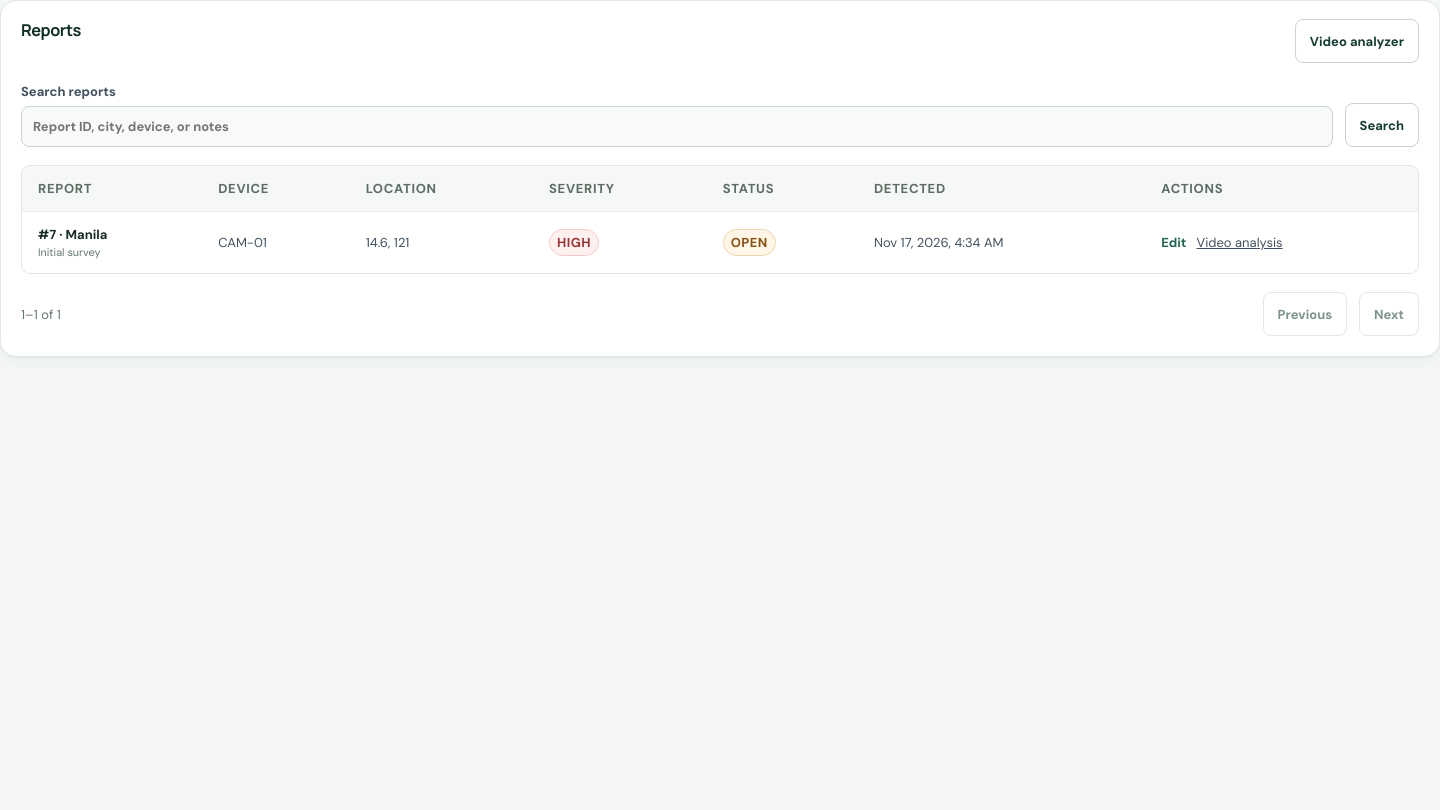
Scenario: report editing › opens existing details, saves the same report, and refreshes its list
Click the button with aria-label "Edit report #7" at point(1174, 242), box [1161,234,1186,251]
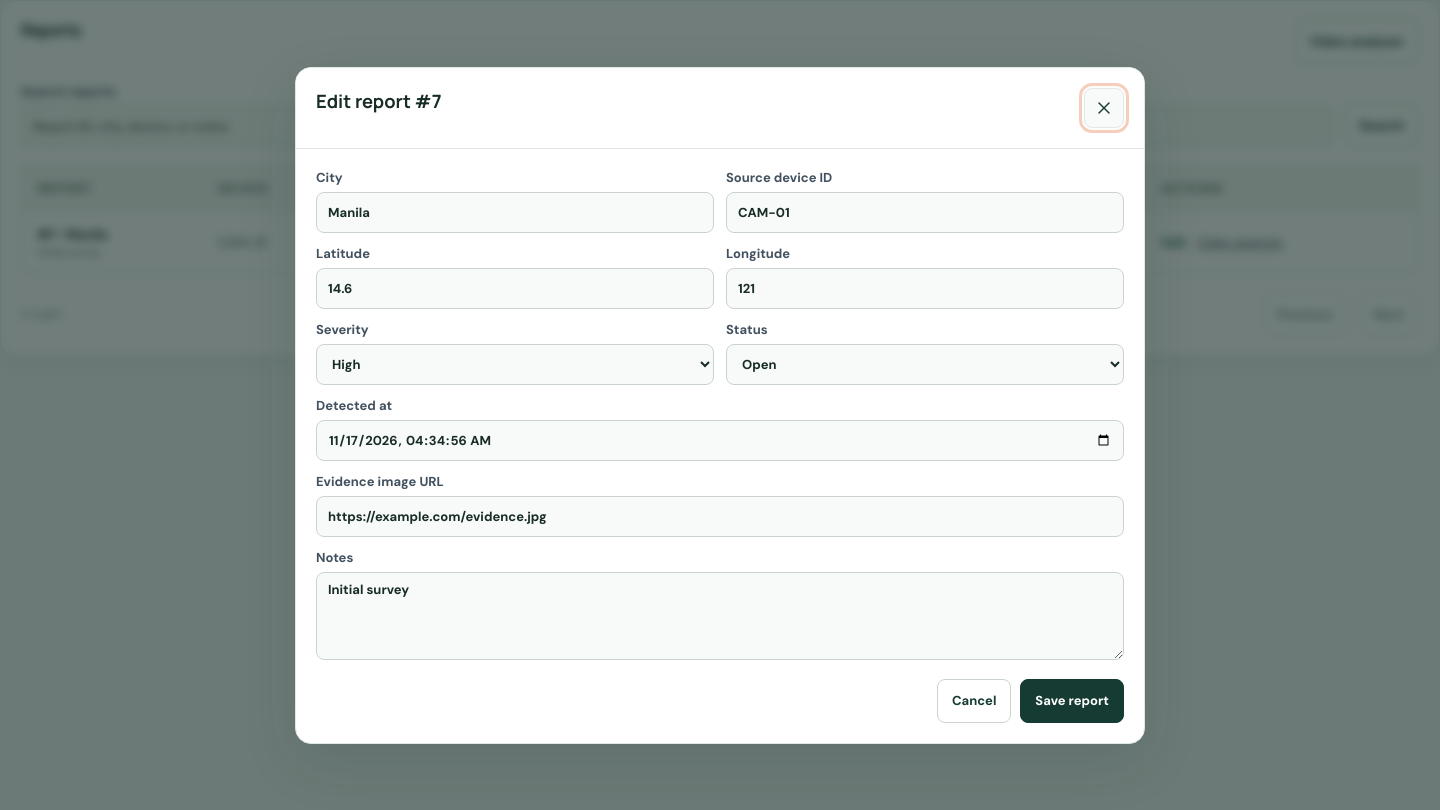
expect the field labelled "City" holds "Manila": met
expect the field labelled "Source device ID" holds "CAM-01": met, box [726,192,1124,232]
expect the field labelled "Evidence image URL" holds "https://example.com/evidence.jpg": met, box [316,496,1124,536]
Replace the text in the field labelled "City" with "Laguna" at point(515, 212), box [316,192,714,232]
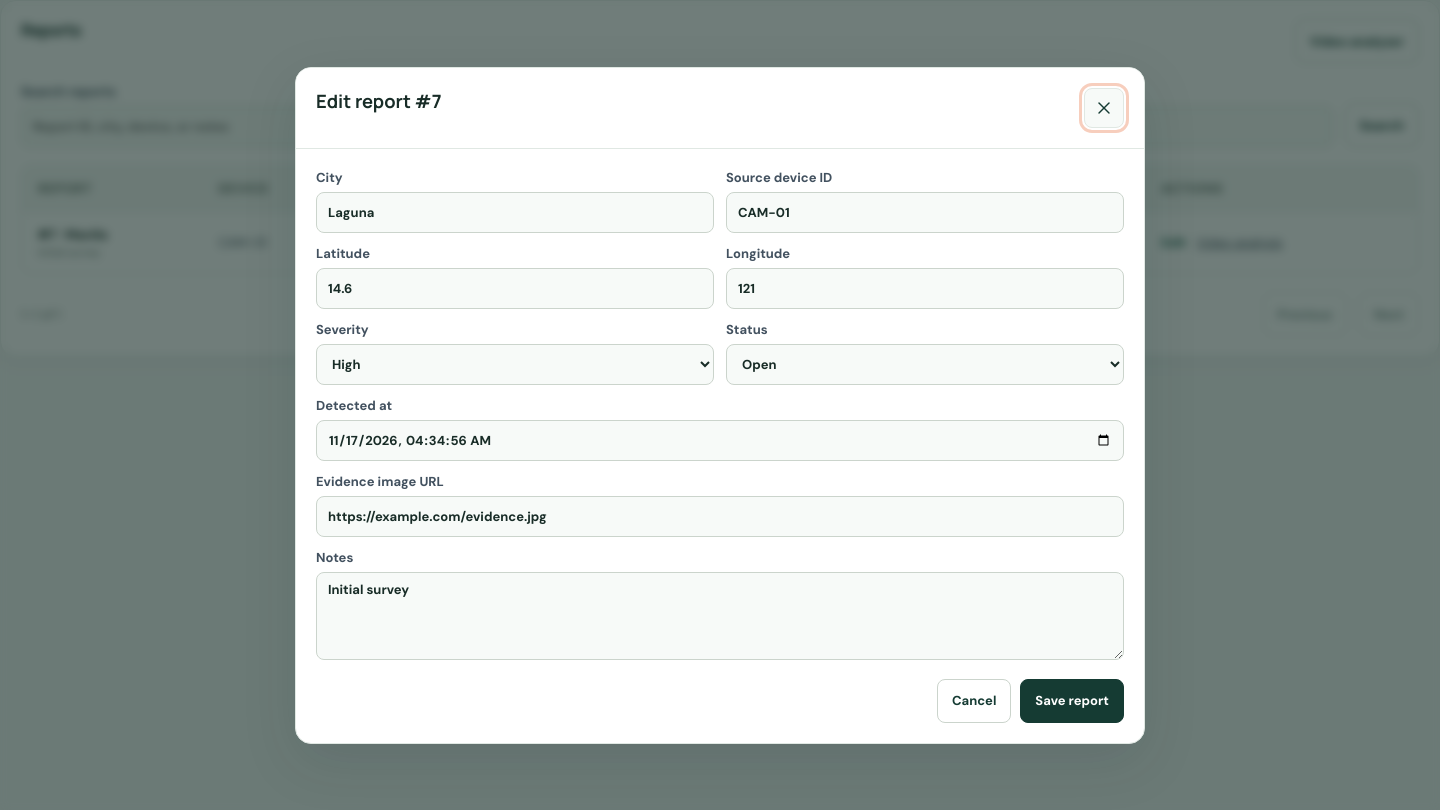
Select "Resolved" in the dropdown labelled "Status" at point(925, 364), box [726,344,1124,384]
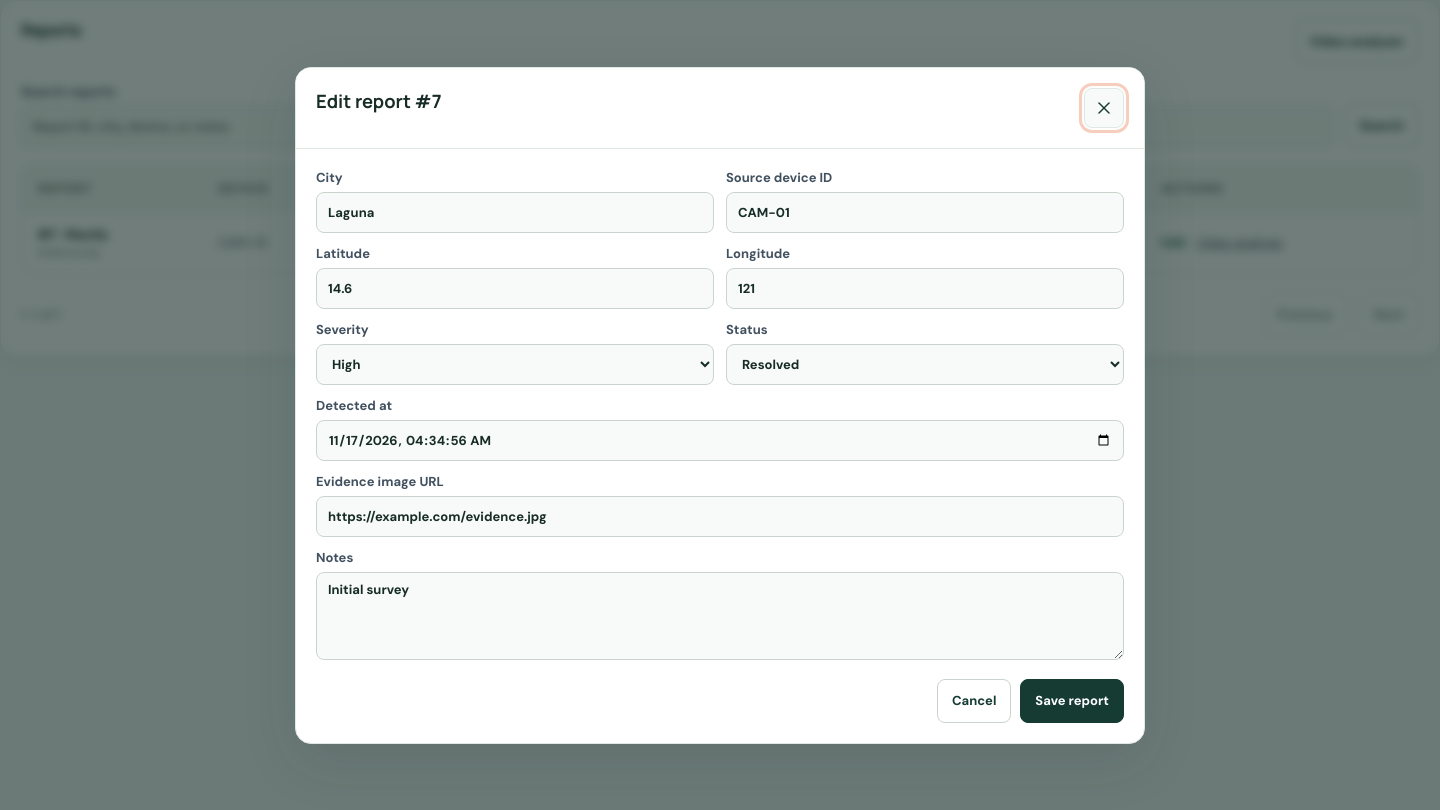
Click the button "Save report" at point(1072, 700), box [1020,678,1124,722]
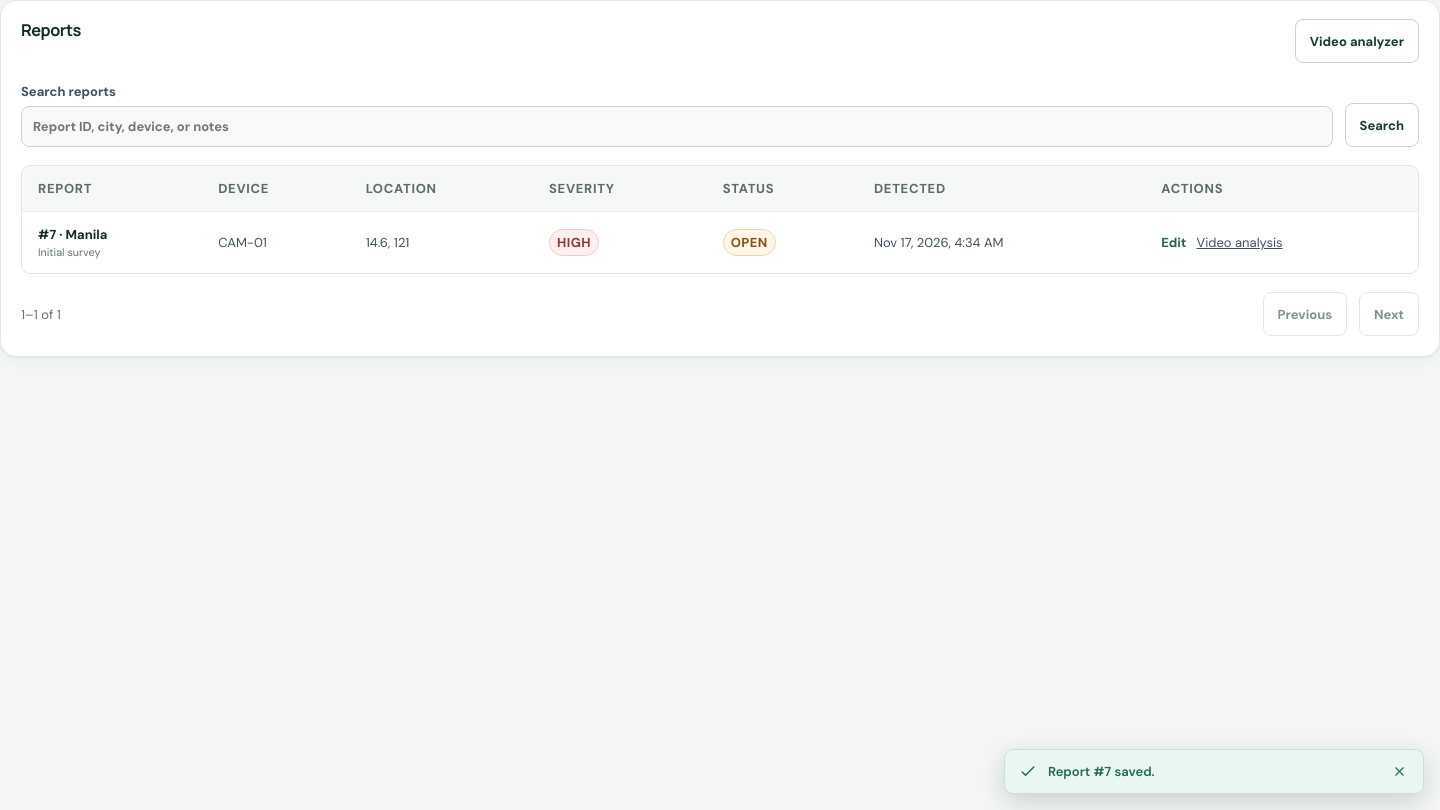
expect the dialog is gone: met
expect the text "Report #7 saved." is shown: met, box [1004,749,1424,794]
